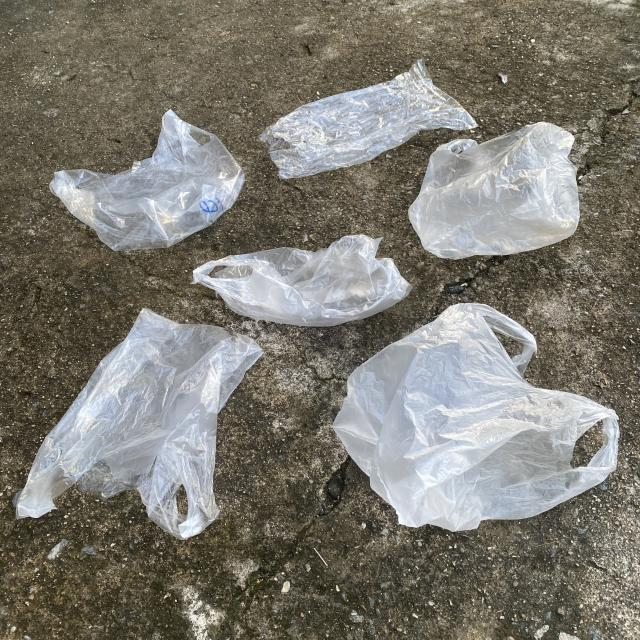Single-layer Plastic: (334, 304, 619, 531), (16, 309, 262, 539), (50, 110, 244, 251), (259, 59, 476, 179), (409, 122, 580, 259), (194, 235, 411, 326)
